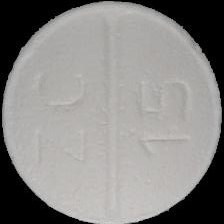54458-990: (0, 0, 224, 224)
